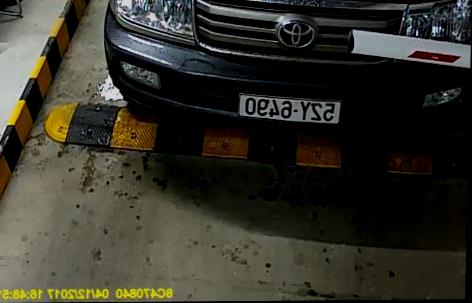License_Plate: (232, 92, 343, 122)
